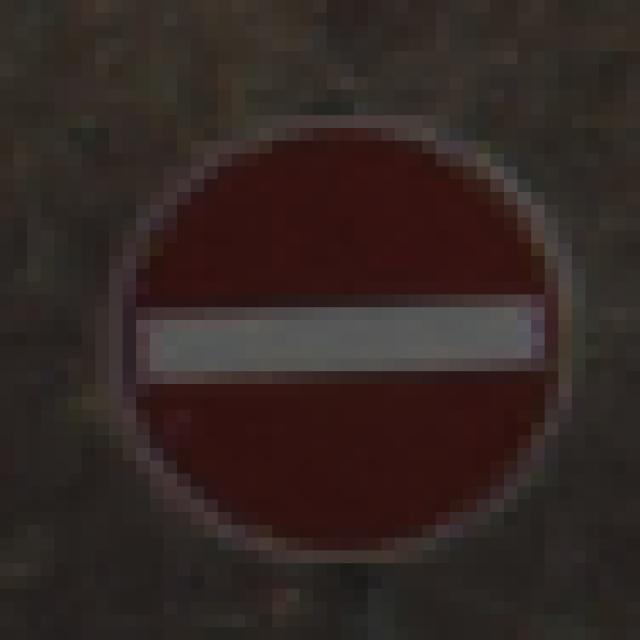No Entry: (69, 78, 573, 577)
